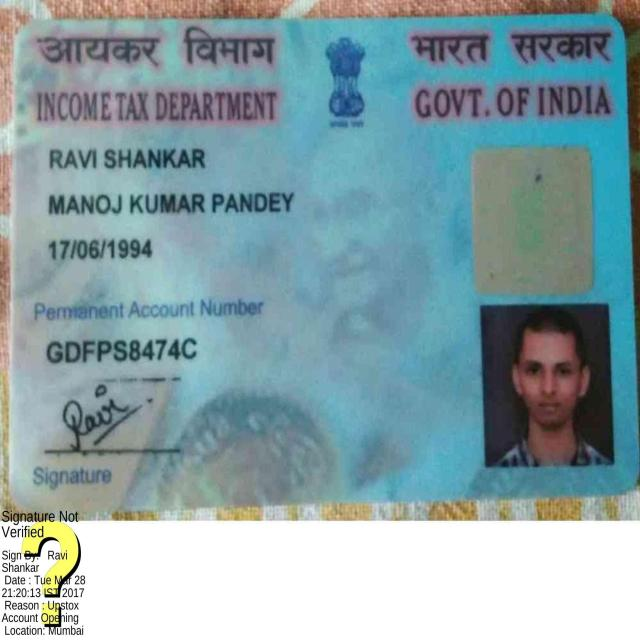pan_card: (11, 16, 631, 514)
